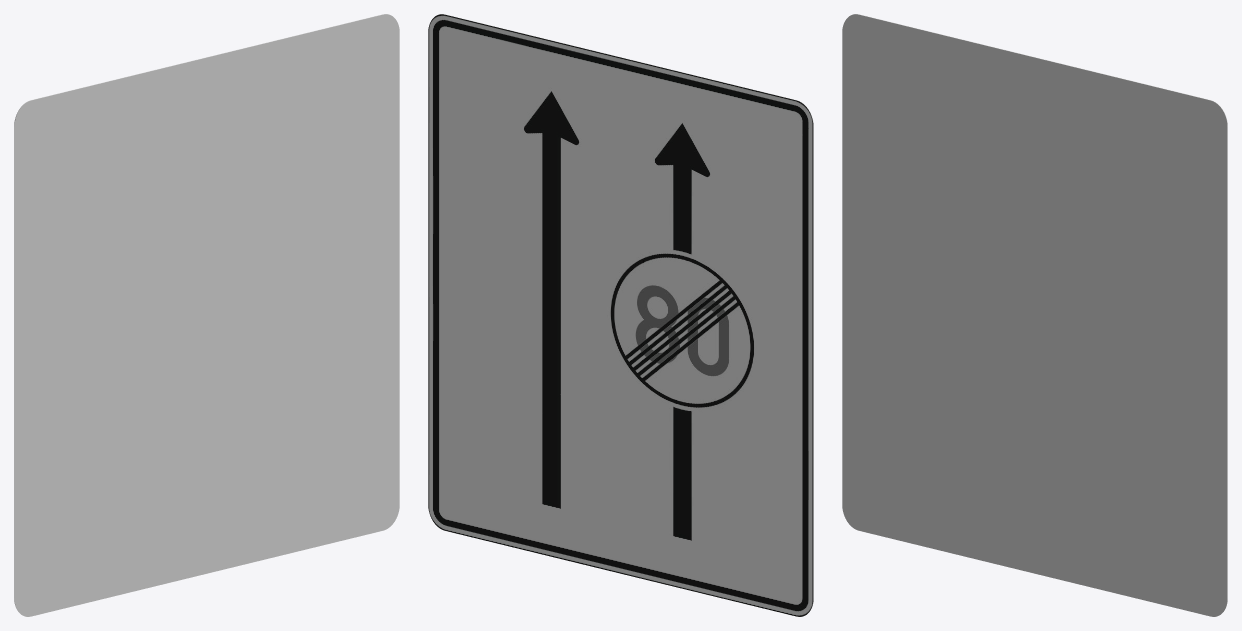
3 views of the same model, side by side, from view 1: azimuth 30°, elevation 25°; view 2: azimuth 150°, elevation 25°; view 3: azimuth 330°, elevation 25° (orthographic).
Visible parts, largest first — view 1: Plane; view 2: Plane; view 3: Plane.
Boxes of the visible parts, x1,y1,x2,y2 form: Plane: (14,14,399,616); Plane: (428,14,813,616); Plane: (842,14,1227,616).
Size of the model in its own units: 1.25 by 1.6 by 0.002.
2 materials, 1 textured.
